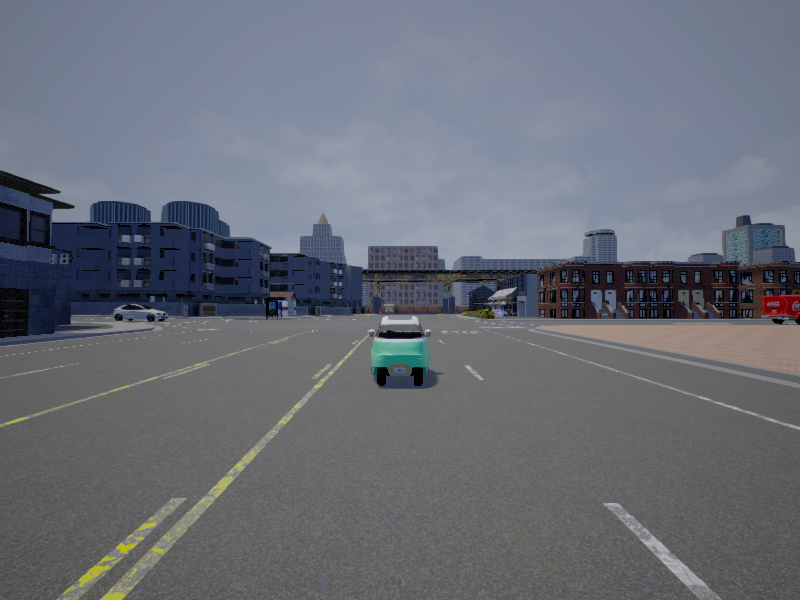Benign: (370, 316, 431, 389), (762, 296, 800, 327), (113, 304, 167, 323)
